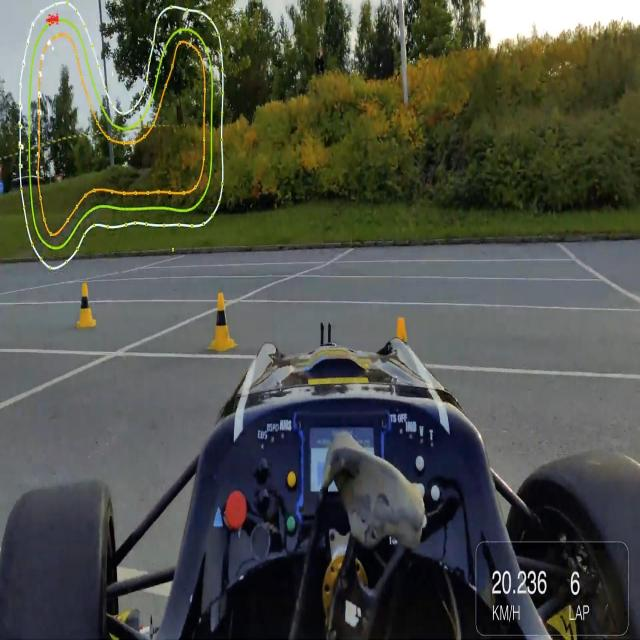yellow_cone: (209, 293, 237, 351), (77, 283, 96, 329)
